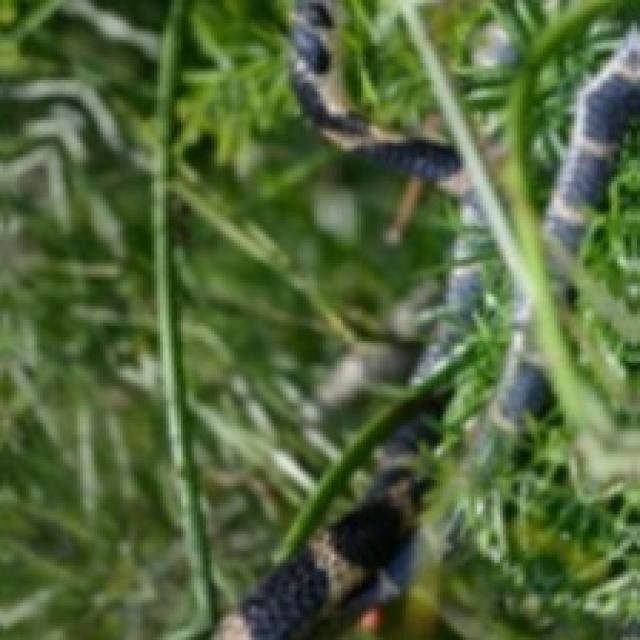king cobra: (294, 0, 637, 637)
